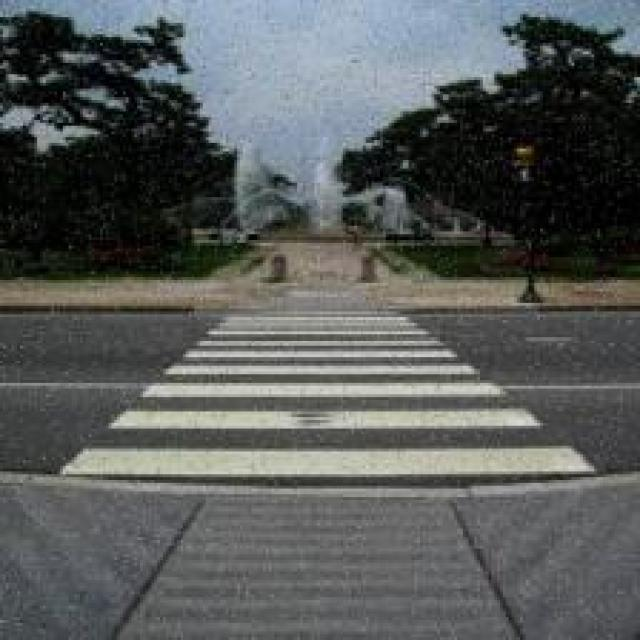walk-crossing: (0, 307, 637, 496)
